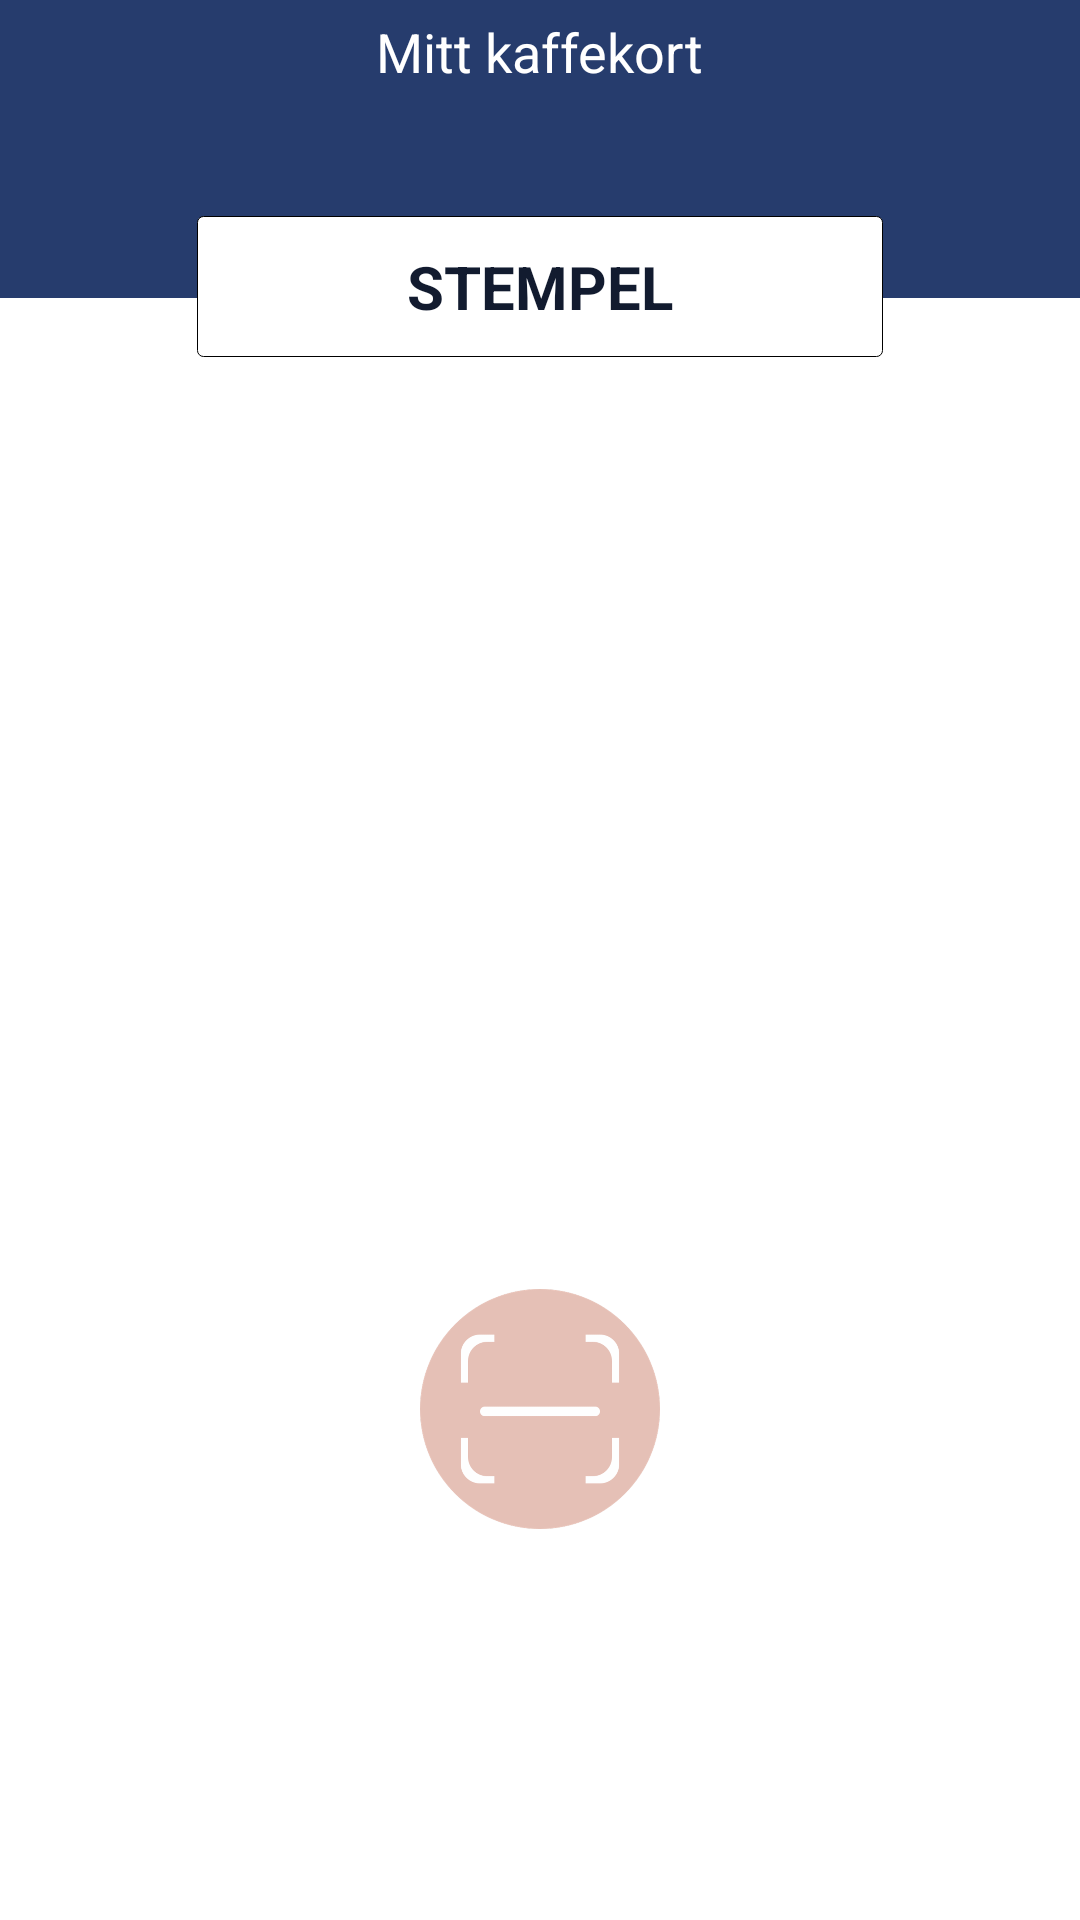

Locate icon controls on the screen. Image size 1080px x 1920px, boxes as (x1, y1, x2, y2).
scan: (420, 1289, 660, 1529)
